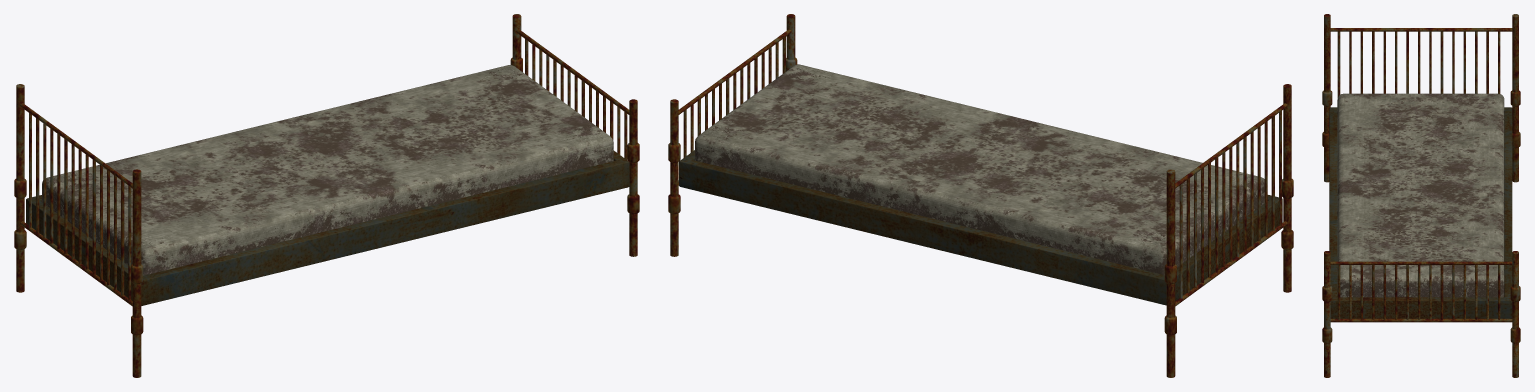
File: post_apocalyptic_bed.glb
3 views of the same model, side by side, from view 1: azimuth 30°, elevation 25°; view 2: azimuth 150°, elevation 25°; view 3: azimuth 270°, elevation 25° (orthographic). The views are drawn at different scales.
Visible parts, largest first — view 1: bed; view 2: bed; view 3: bed.
Part boxes in pixels (box(x1,y1,x2,y2)): bed: box(14, 14, 639, 377); bed: box(668, 14, 1293, 377); bed: box(1322, 14, 1520, 377).
Size of the model in its own units: 2.07 by 0.7989 by 0.8669.
Materials: 1 (1 with a texture image).
